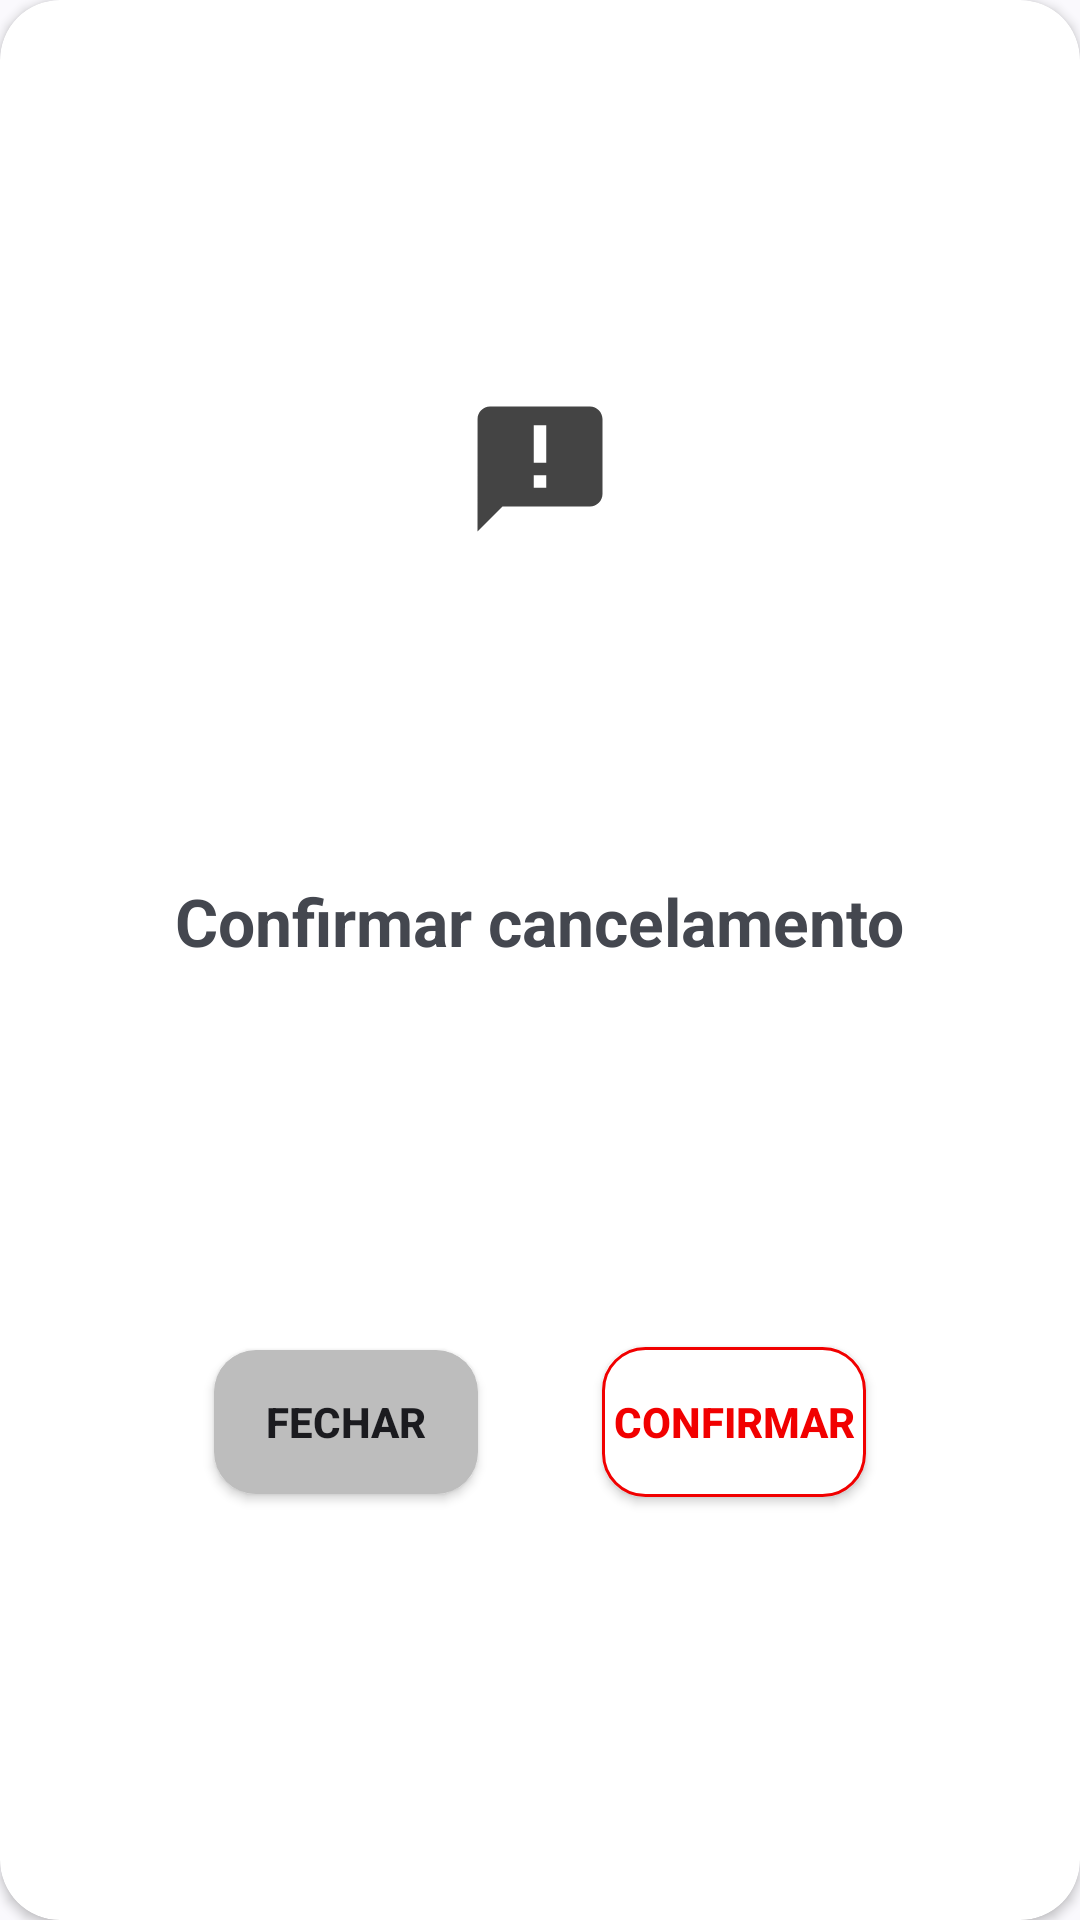

Icon click points for this 1080*1920 phone screenshot, format (x,y):
announcement: (540,468)
